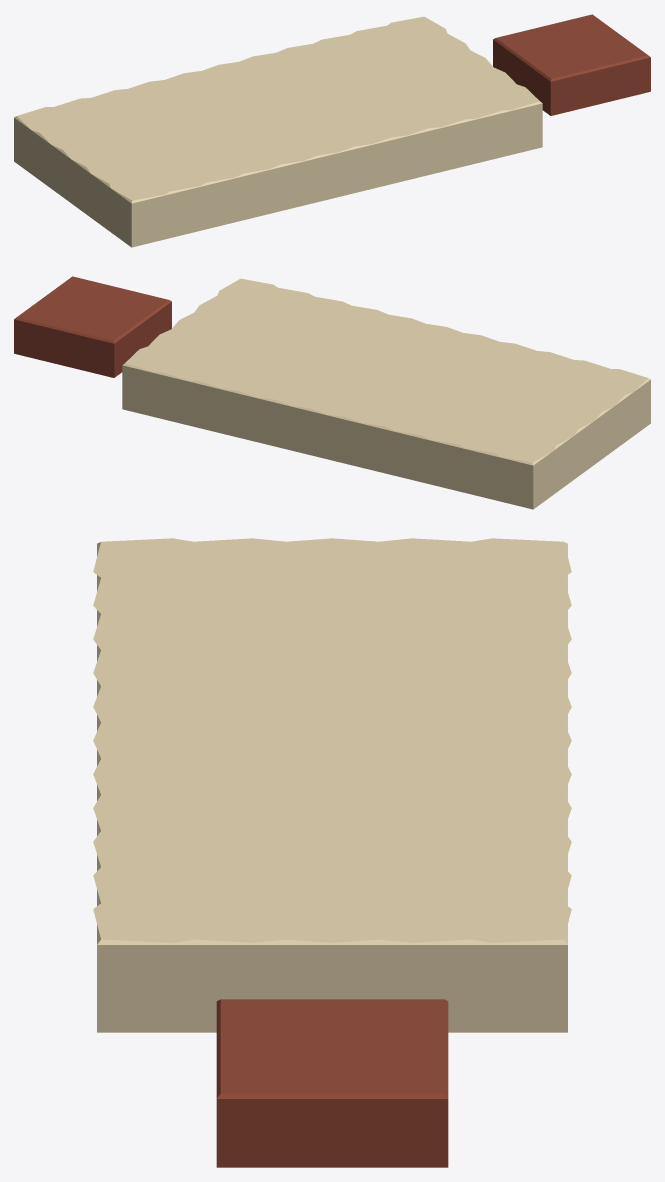
Rendered from mahsulot.glb.
3 views of the same model, one above another, from view 1: azimuth 30°, elevation 25°; view 2: azimuth 150°, elevation 25°; view 3: azimuth 270°, elevation 25° (orthographic). The views are drawn at different scales.
Parts seen in each view (by area): view 1: mahsulot_A, mahsulot_B; view 2: mahsulot_A, mahsulot_B; view 3: mahsulot_A, mahsulot_B.
Boxes of the visible parts, left/top/right/bottom form: mahsulot_A: left=14, top=16, right=542, bottom=247; mahsulot_B: left=493, top=14, right=650, bottom=115; mahsulot_A: left=122, top=278, right=650, bottom=509; mahsulot_B: left=14, top=276, right=171, bottom=377; mahsulot_A: left=93, top=538, right=571, bottom=1032; mahsulot_B: left=216, top=999, right=448, bottom=1167.
Bounding box in the file's own units: 0.4785 × 0.038 × 0.18.
